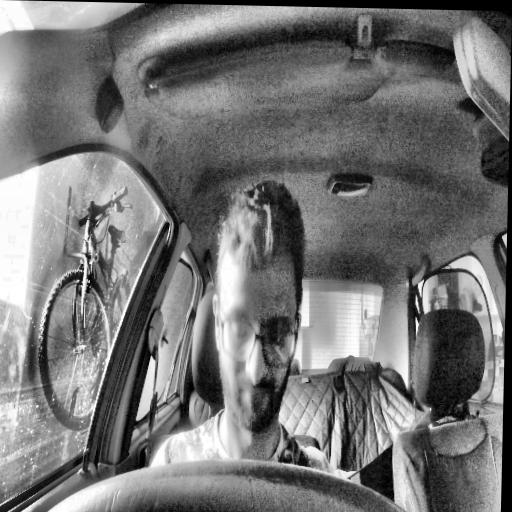drowsy: (210, 178, 306, 431)
